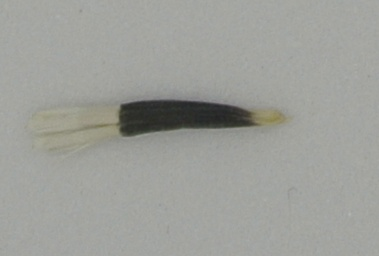เมล็ดดีติดกัน: (25, 96, 294, 165)
